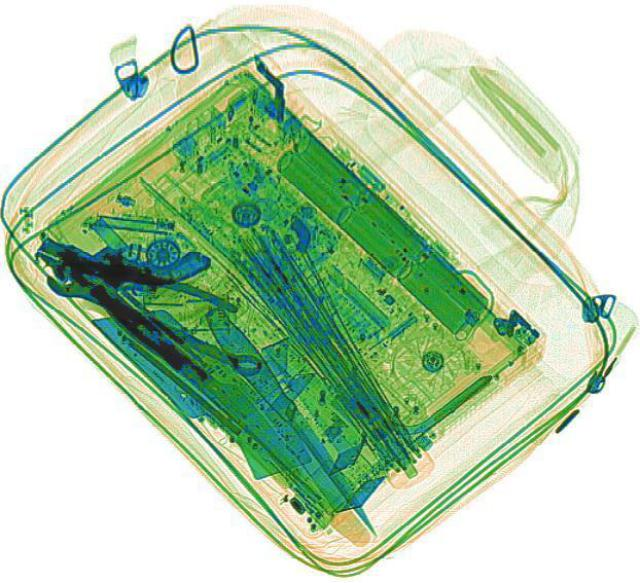Gun: (36, 187, 214, 316)
Knife: (86, 269, 337, 506), (198, 301, 388, 541)
Wrench: (38, 253, 270, 386)
